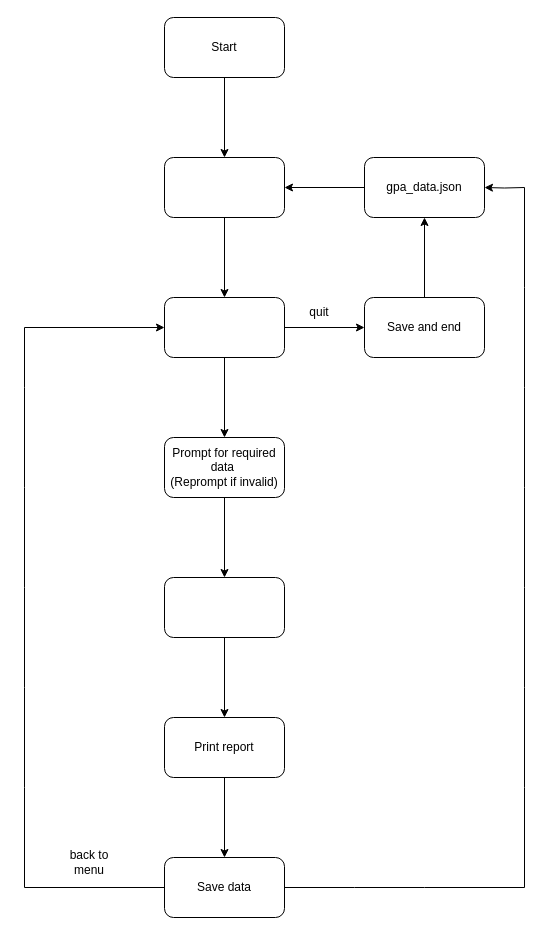
Image size: 550x935. Some labels were removed from this diagram. Here are the shapes that lost their labels. From the top down, the centre of each, then its label:
the point at 224,187: Load Saved Data
the point at 224,327: Main Menu (What to calculate?)
the point at 224,607: Run calculator
